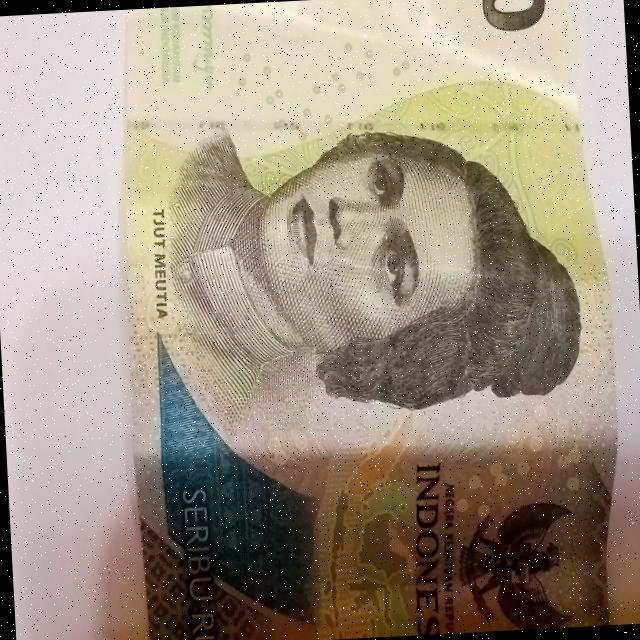1K: (103, 0, 637, 640)
